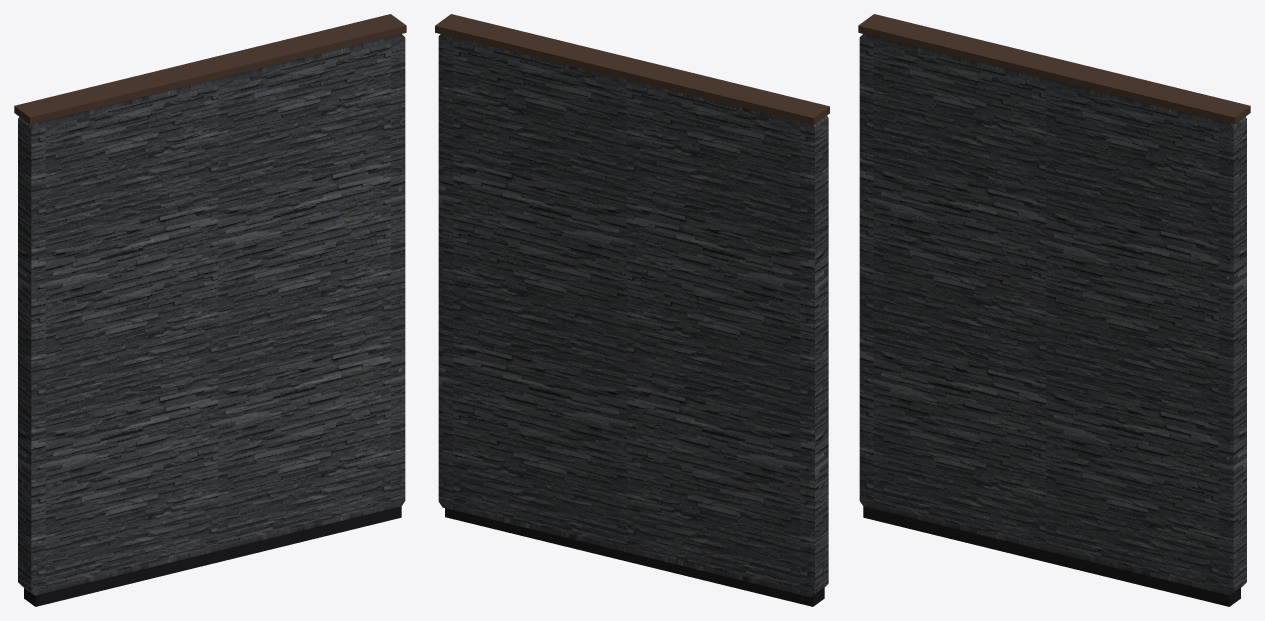
The model's file is atrium_bay_slate.glb.
The picture shows the model from 3 angles, left to right: view 1: azimuth 30°, elevation 25°; view 2: azimuth 150°, elevation 25°; view 3: azimuth 330°, elevation 25°; orthographic projection.
Parts seen in each view (by area): view 1: atrium_bay_slate; view 2: atrium_bay_slate; view 3: atrium_bay_slate.
Boxes of the visible parts, box(x1,y1,x2,y2) form: atrium_bay_slate: box(14, 14, 406, 606); atrium_bay_slate: box(435, 14, 829, 606); atrium_bay_slate: box(858, 14, 1250, 606).
Size of the model in its own units: 2.84 by 3.53 by 0.2099.
Materials: 1 (1 with a texture image).
